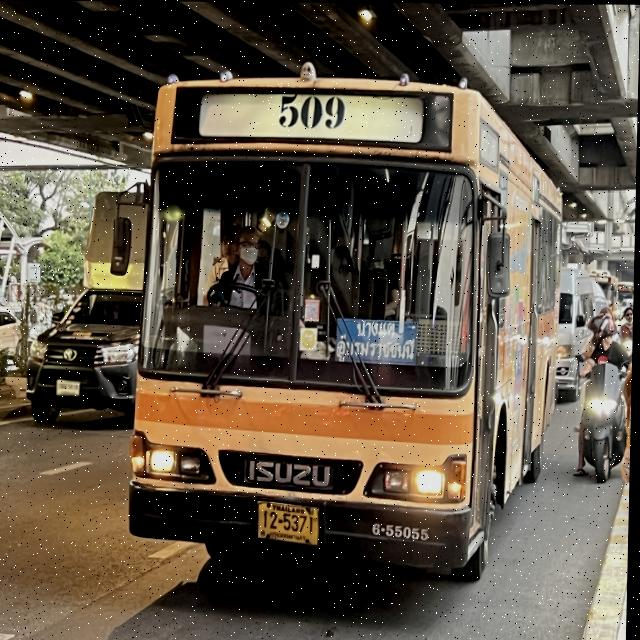BMTA-bus: (117, 50, 568, 596)
Bus Line Number: (270, 89, 355, 135)
Bus Side Number: (368, 511, 441, 546)
Destination Sign: (334, 316, 420, 364)
